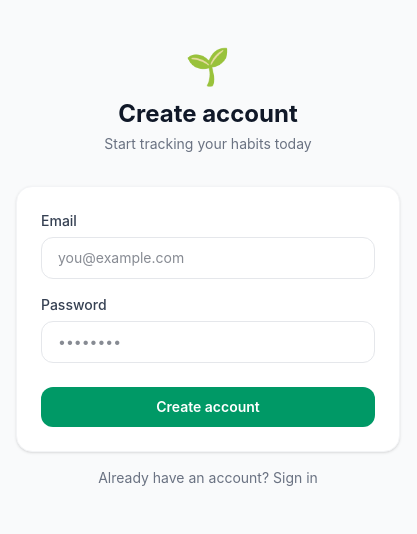
Scenario: auth flow › shows an error for duplicate signup email
This screenshot has width=417, height=534.
Step 1. Type "existing@example.com" into the field with test id "auth-signup-email" → coordinates (208, 258), box [41,237,375,279]
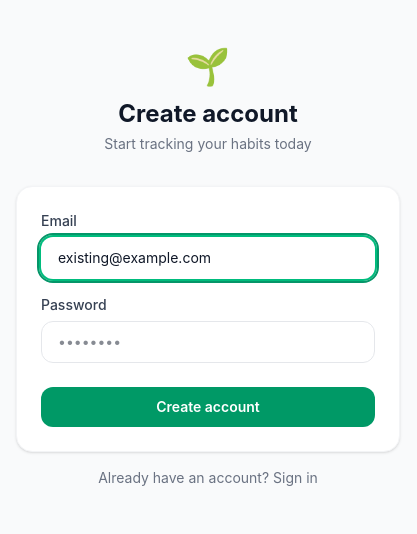
Step 2. Type "newpassword" into the password field with test id "auth-signup-password" → coordinates (208, 342), box [41,321,375,363]
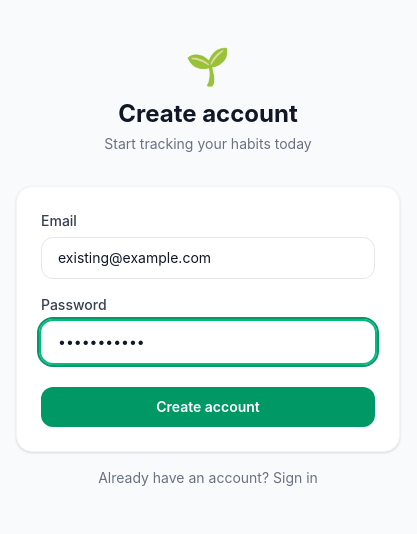
Step 3. Click the button with test id "auth-signup-submit" → coordinates (208, 407), box [41,387,375,427]
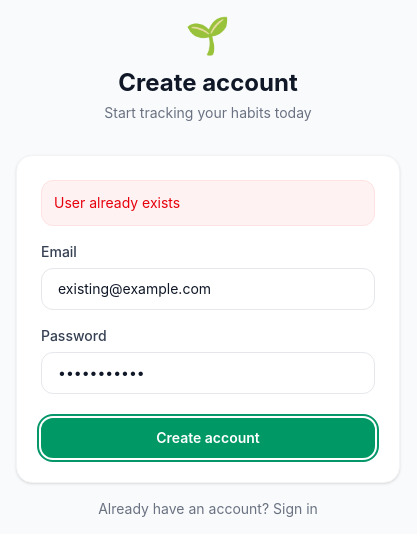
Check: the text "User already exists" is shown, box [41,180,375,226]
